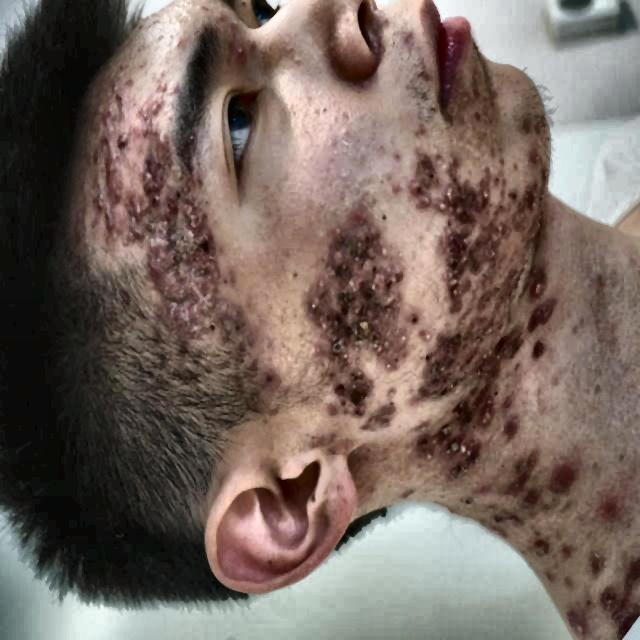nodule: (437, 180, 473, 234), (378, 237, 411, 281), (490, 213, 520, 255), (519, 335, 553, 372), (321, 325, 353, 363), (411, 183, 443, 221), (367, 398, 396, 438), (416, 140, 446, 178), (499, 258, 525, 301), (476, 314, 510, 346), (192, 222, 222, 258), (449, 428, 477, 465), (473, 177, 498, 218), (352, 356, 378, 395), (524, 136, 550, 174), (502, 403, 522, 452), (374, 324, 400, 361), (138, 152, 166, 186), (204, 266, 230, 302), (430, 317, 452, 358), (363, 276, 385, 317), (524, 446, 544, 491), (166, 232, 188, 272), (220, 294, 242, 334), (527, 299, 558, 327), (456, 387, 480, 423), (238, 323, 257, 368), (454, 230, 478, 265), (411, 431, 435, 464), (523, 265, 544, 301), (478, 391, 499, 426), (174, 278, 200, 306), (326, 219, 348, 252), (317, 265, 336, 301), (477, 270, 499, 301), (395, 324, 420, 351), (309, 304, 332, 333), (94, 196, 114, 229), (523, 185, 540, 221), (427, 351, 446, 381), (446, 273, 470, 296), (125, 190, 144, 219), (147, 226, 166, 255), (186, 316, 207, 342), (320, 247, 352, 263), (106, 126, 125, 152), (331, 275, 354, 296), (187, 205, 202, 237), (100, 162, 120, 185), (259, 374, 279, 397), (328, 376, 347, 400), (356, 240, 374, 265), (354, 312, 373, 335), (419, 322, 438, 345), (466, 353, 492, 369), (185, 300, 200, 326), (308, 285, 322, 312), (143, 95, 163, 112), (149, 130, 163, 154), (150, 187, 166, 208), (130, 109, 144, 131)
